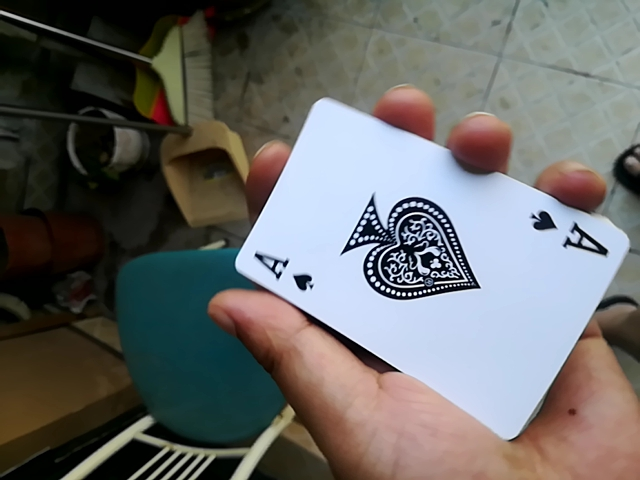ht a: (211, 99, 635, 447)
